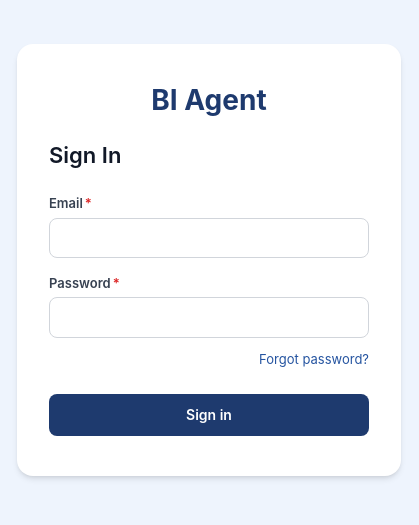
LoginPage — email+password login › shows error message on AUTH error
This screenshot has width=419, height=525.
Type "bad@example.com" into the field labelled "Email*" at (209, 238), box 49,218 -> 369,258
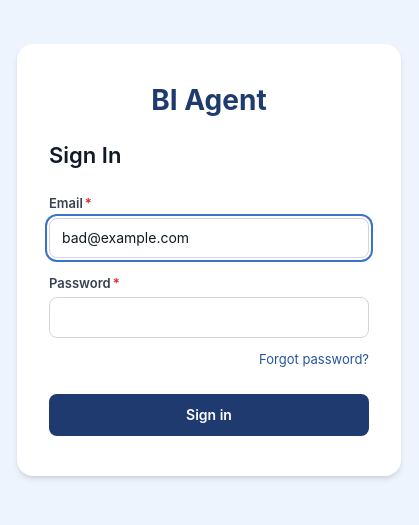
Type "wrong" into the password field labelled "Password*" at (209, 318), box 49,297 -> 369,338
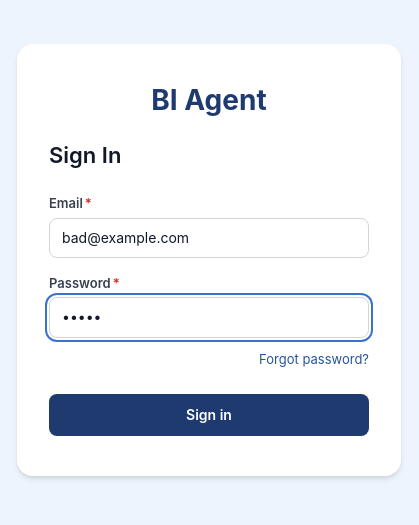
Click the button "Sign in" at (209, 415), box 49,394 -> 369,436
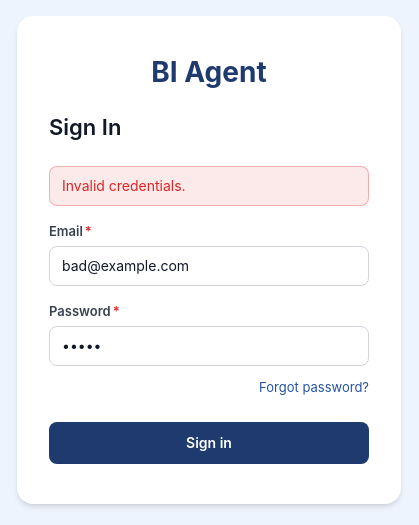
Expected: the message reads "Invalid credentials.", 62,177 -> 186,194
